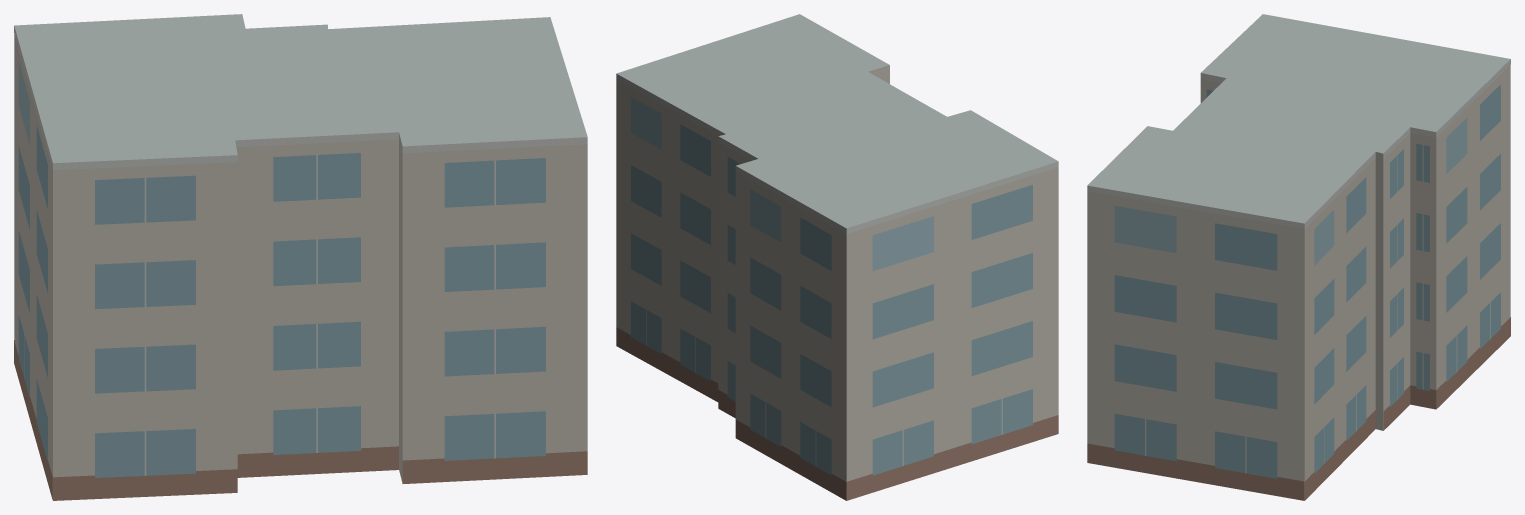
Rendered from survey-upis-32724840.glb.
3 renders of one model, left to right at view 1: azimuth 30°, elevation 25°; view 2: azimuth 150°, elevation 25°; view 3: azimuth 270°, elevation 25°, orthographic. The views are drawn at different scales.
Parts seen in each view (by area): view 1: survey-upis-32724840.tmp; view 2: survey-upis-32724840.tmp; view 3: survey-upis-32724840.tmp.
Boxes of the visible parts, left/top/right/bottom form: survey-upis-32724840.tmp: left=14, top=14, right=587, bottom=500; survey-upis-32724840.tmp: left=616, top=14, right=1058, bottom=500; survey-upis-32724840.tmp: left=1087, top=14, right=1510, bottom=500.
Bounding box in the file's own units: 19.13 × 11.8 × 16.34.
